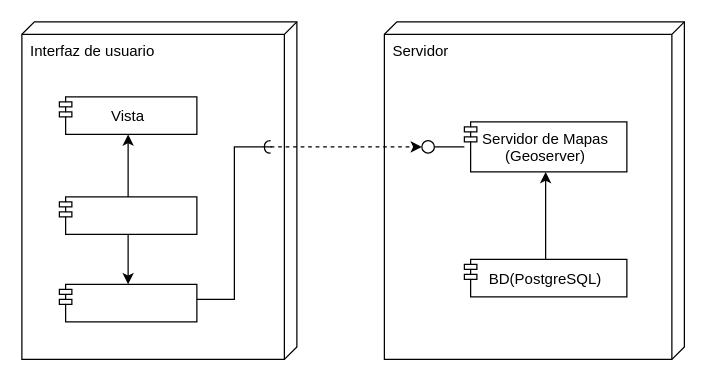
This 706x381 diagram has some shape labels left out. The centre of each missing label's shape, as x and y in pixels:
"Controlador" goes at (127,215).
"Modelo" goes at (127,302).
